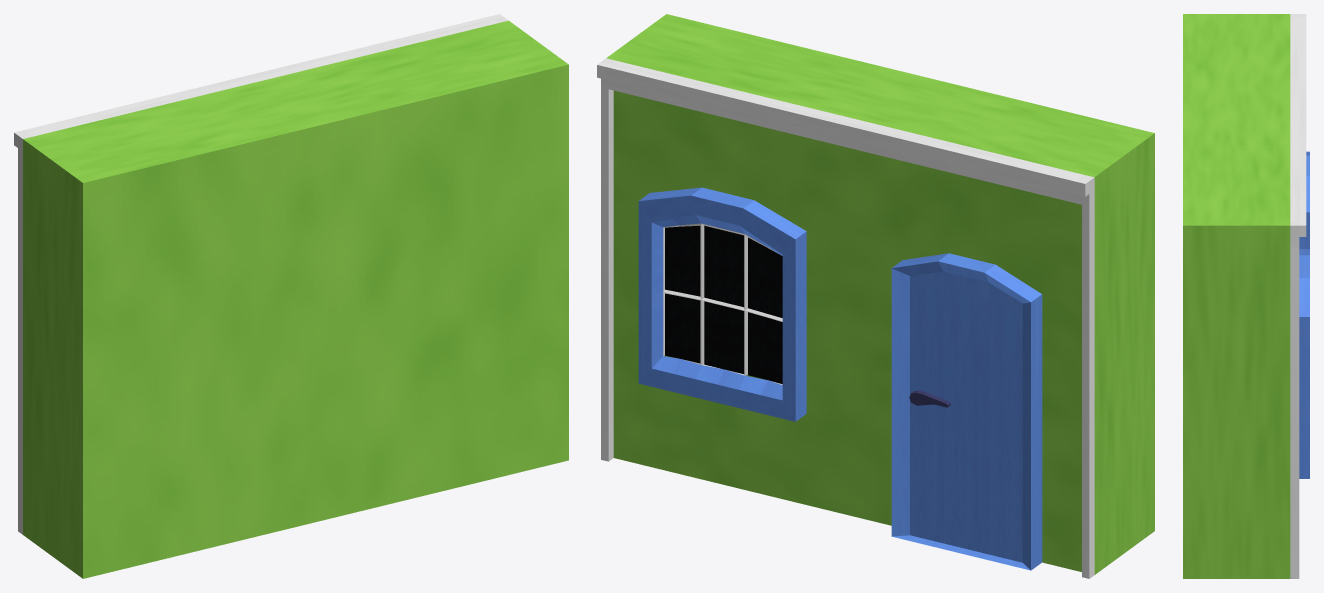
Rendered from casaflo2verde.gltf.
The picture shows the model from 3 angles, left to right: view 1: azimuth 30°, elevation 25°; view 2: azimuth 150°, elevation 25°; view 3: azimuth 270°, elevation 25°; orthographic projection. The views are drawn at different scales.
Parts seen in each view (by area): view 1: cuboid; view 2: cuboid (×3); view 3: cuboid (×3).
Boxes of the visible parts, x1,y1,x2,y2 form: cuboid: [14, 14, 568, 578]; cuboid (×3): [597, 14, 1154, 578]; cuboid (×3): [1183, 14, 1309, 578].
Size of the model in its own units: 1.75 by 1.36 by 0.4438.
1 material, 1 textured.
